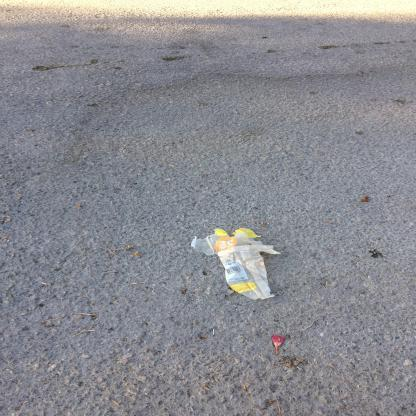plastik: (191, 229, 283, 302)
